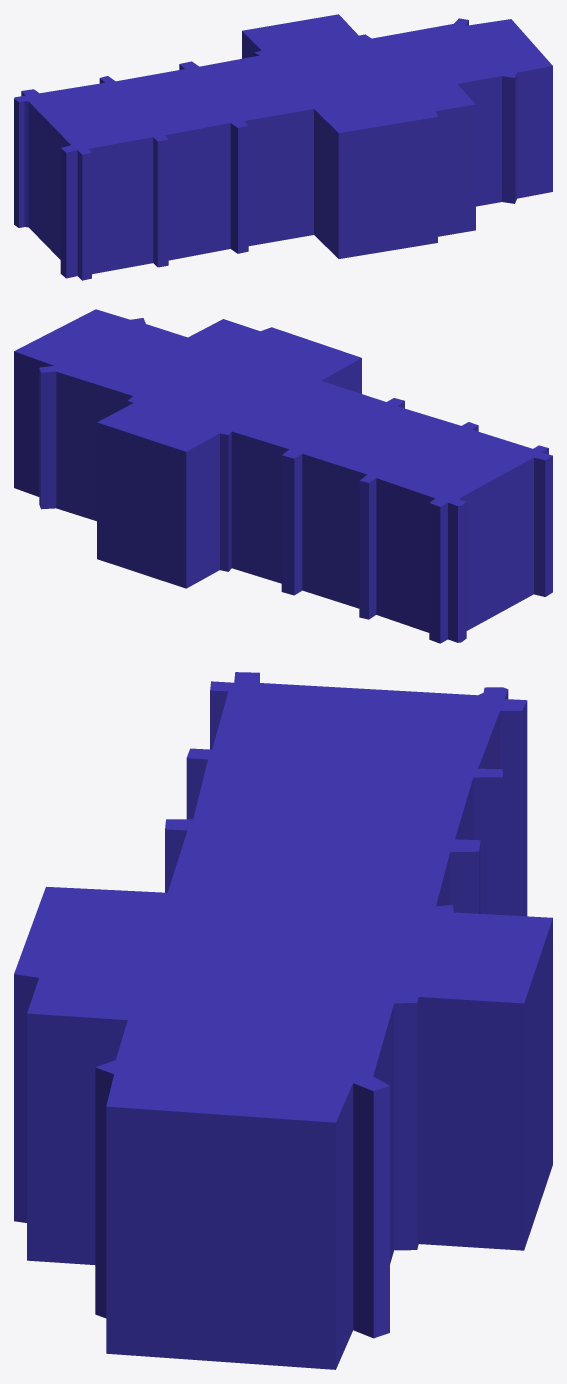
File: 3d-map.glb
3 renders of one model, top to bottom at view 1: azimuth 30°, elevation 25°; view 2: azimuth 150°, elevation 25°; view 3: azimuth 270°, elevation 25°, orthographic. The views are drawn at different scales.
Parts seen in each view (by area): view 1: Plane; view 2: Plane; view 3: Plane.
Boxes of the visible parts, x1,y1,x2,y2 form: Plane: (14, 14, 552, 280); Plane: (14, 309, 552, 643); Plane: (14, 672, 552, 1369).
Bounding box in the file's own units: 1.43 × 0.3656 × 0.7226.
